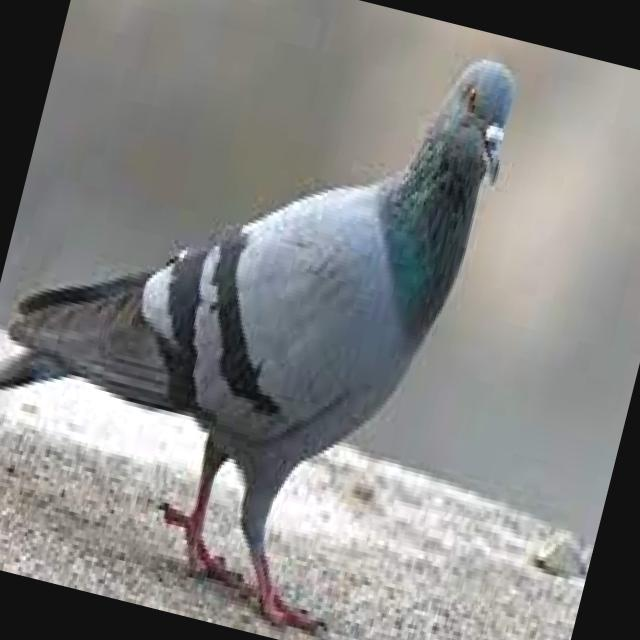bird: (0, 0, 534, 640)
